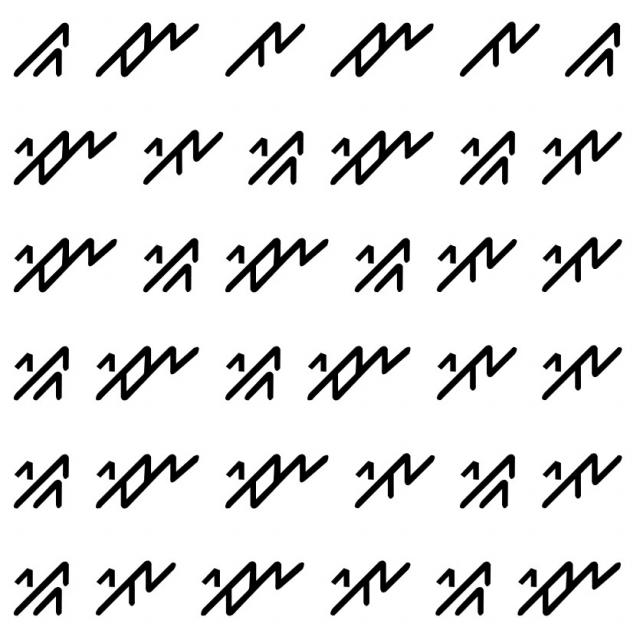a: (449, 13, 543, 79), (220, 15, 307, 80)
i: (419, 222, 519, 299), (128, 118, 227, 192), (431, 336, 519, 418), (82, 553, 179, 621), (538, 220, 628, 293), (321, 552, 416, 621), (342, 448, 438, 516), (534, 122, 626, 191), (532, 334, 625, 402), (538, 448, 626, 514)
ngga: (555, 13, 629, 81), (8, 13, 76, 87)
nggi: (422, 554, 500, 626), (453, 122, 522, 200), (239, 124, 311, 197), (4, 442, 74, 517), (128, 233, 204, 302), (212, 337, 285, 406), (8, 552, 74, 625), (453, 448, 522, 516), (7, 335, 73, 406), (342, 237, 414, 296)
nja: (94, 10, 205, 91), (327, 13, 436, 81)
nji: (323, 115, 438, 194), (5, 226, 120, 305), (189, 551, 308, 626), (82, 335, 202, 407), (7, 115, 119, 192), (300, 333, 413, 408), (216, 228, 333, 299), (87, 446, 203, 517), (503, 552, 624, 619), (218, 446, 332, 514)
